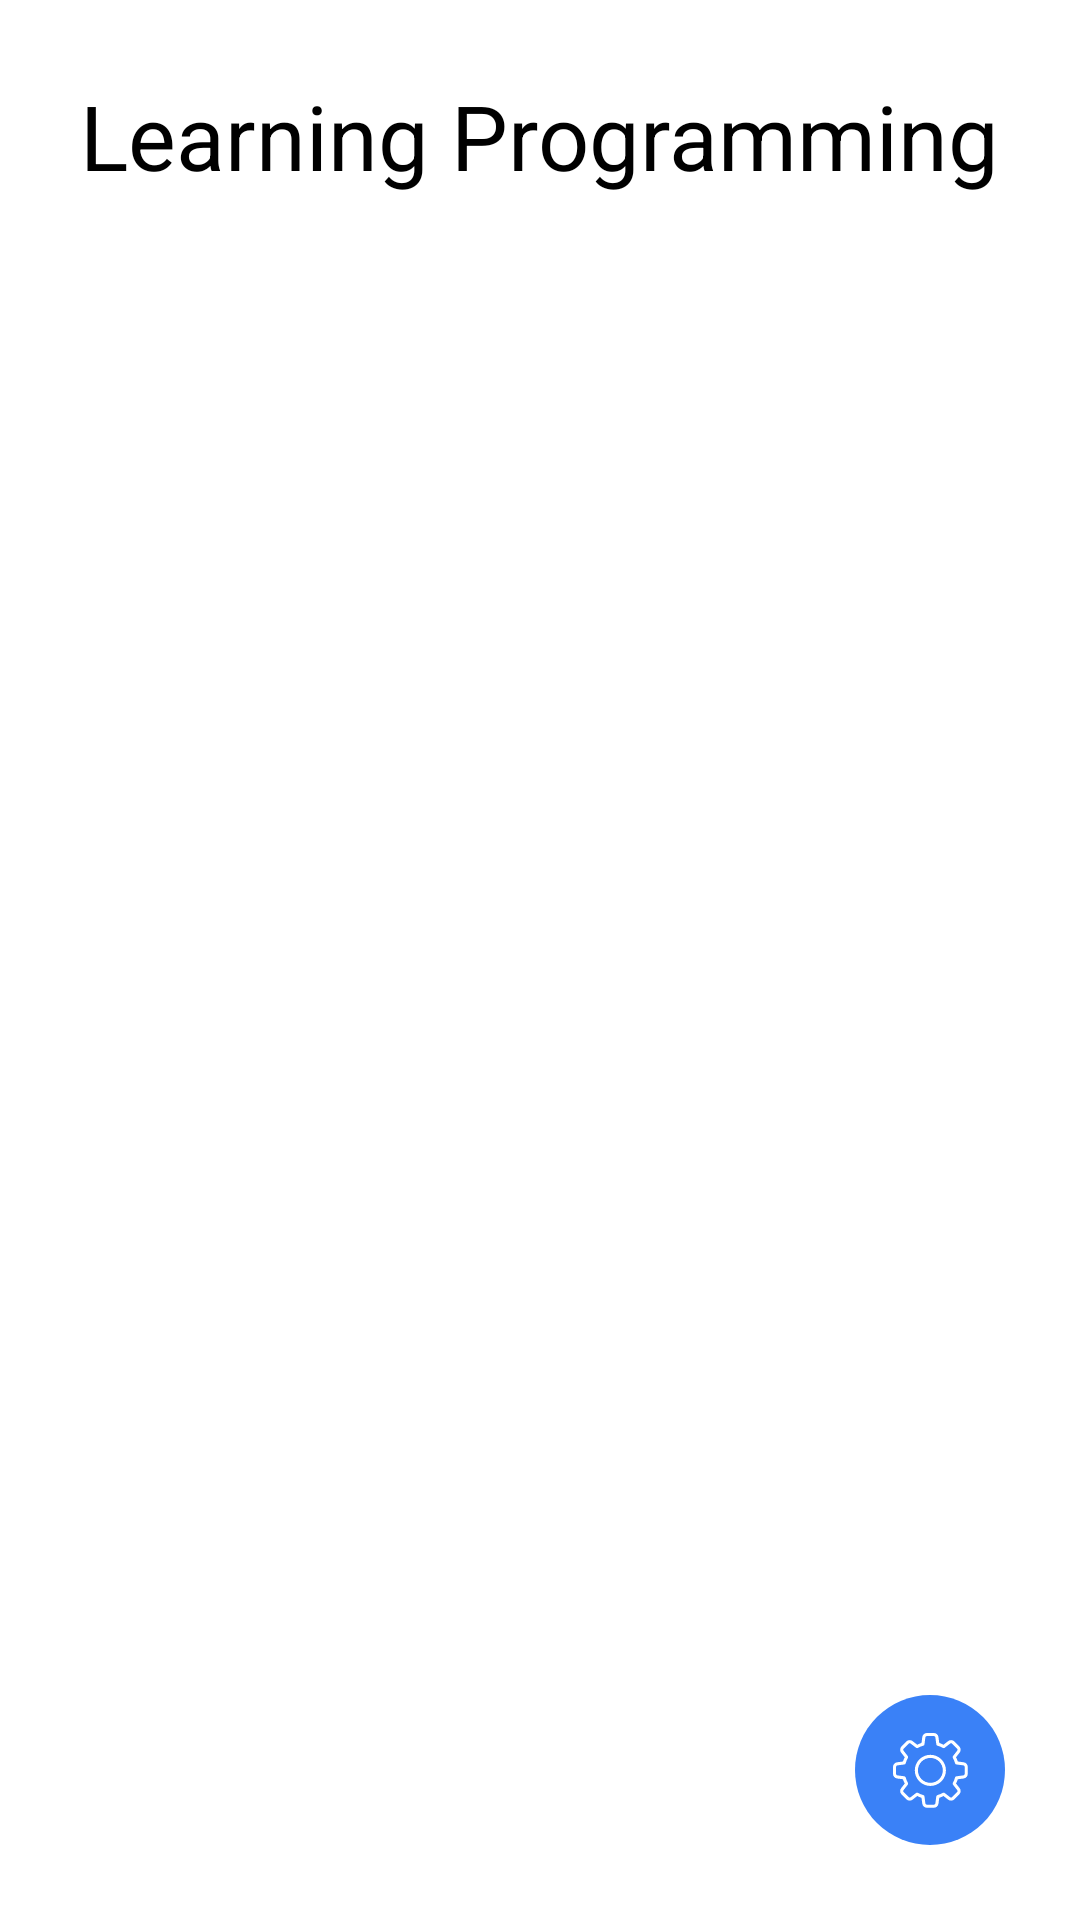

Where to tap for icons on this 1080×1920 app screen, as (x=x, y=y):
setting: (x=930, y=1770)
